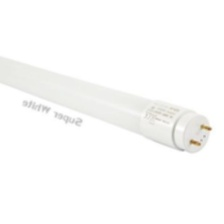light_bulb: (0, 53, 214, 157)
